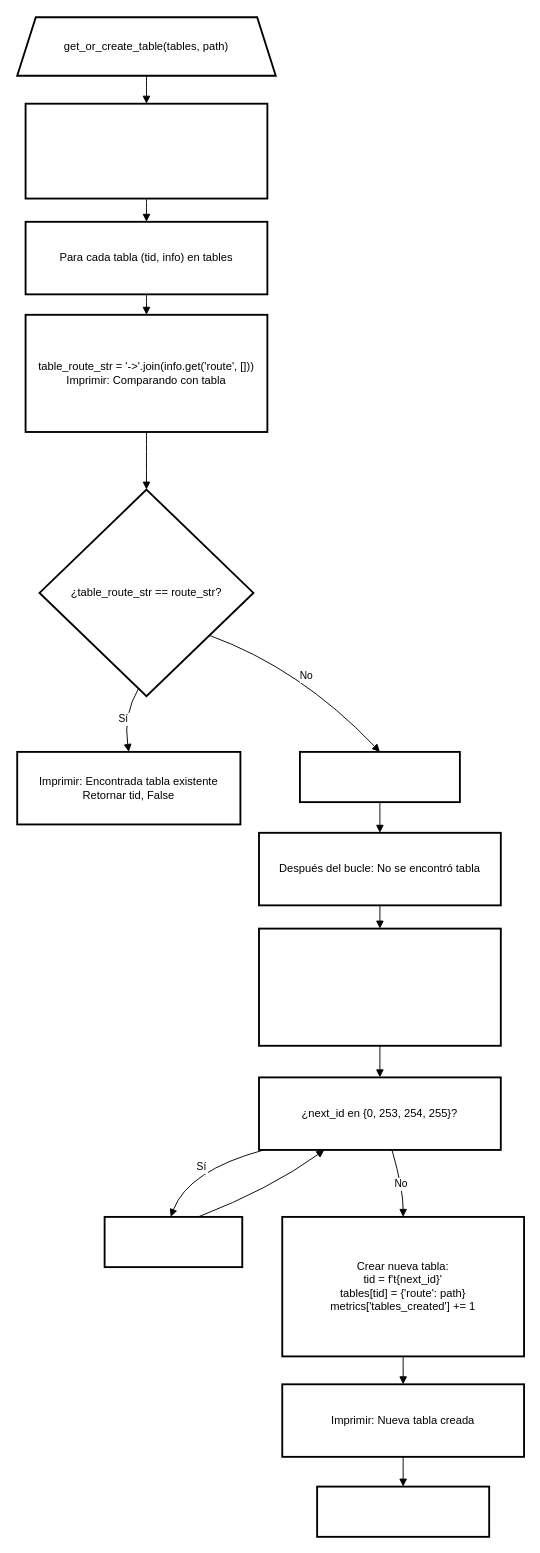
The diagram is 540 pixels wide and 1553 high, and some of its shapes have lost their labels. The centre of each missing label's shape, as x and y in pixels:
"Continuar bucle" goes at point (379, 777).
"Extraer IDs numéricos existentes next_id = max(table_ids) + 1" goes at point (379, 986).
"next_id += 1" goes at point (173, 1242).
"Retornar tid, True" goes at point (403, 1511).
"route_str = '->'.join(path) Imprimir: Buscando tabla para ruta" goes at point (146, 150).
